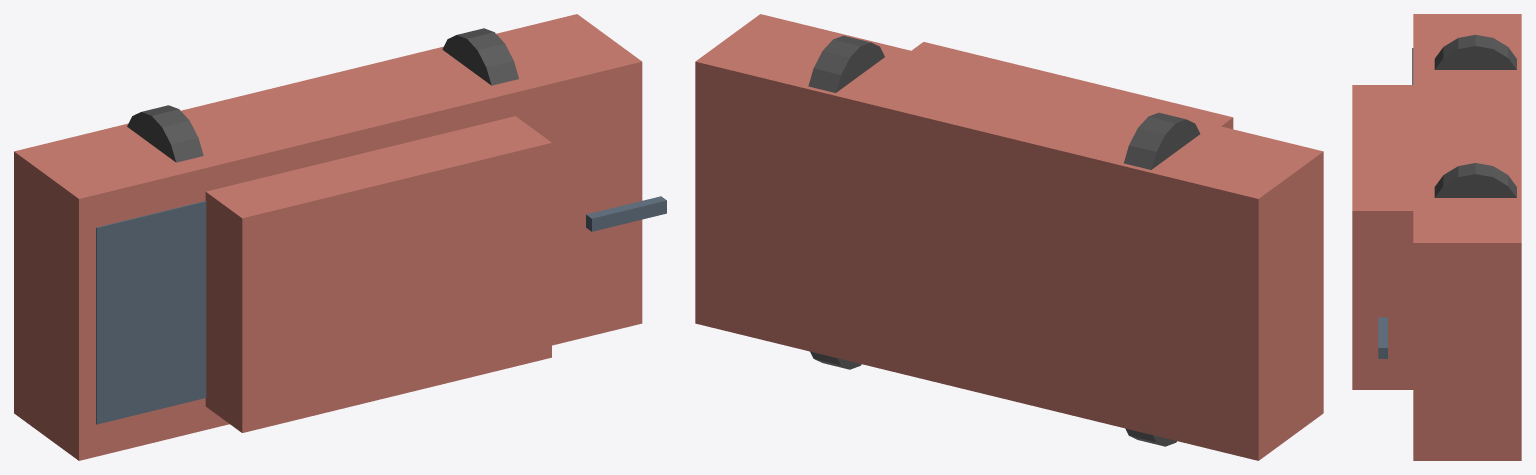
Rendered from vehicle-sports-car.glb.
3 views of the same model, side by side, from view 1: azimuth 30°, elevation 25°; view 2: azimuth 150°, elevation 25°; view 3: azimuth 270°, elevation 25° (orthographic). The views are drawn at different scales.
Parts seen in each view (by area): view 1: world; view 2: world; view 3: world.
Part boxes in pixels (x1,y1,x2,y2): world: [14, 14, 666, 460]; world: [695, 14, 1323, 460]; world: [1352, 14, 1521, 460].
Bounding box in the file's own units: 4.53 × 2.44 × 1.4.
